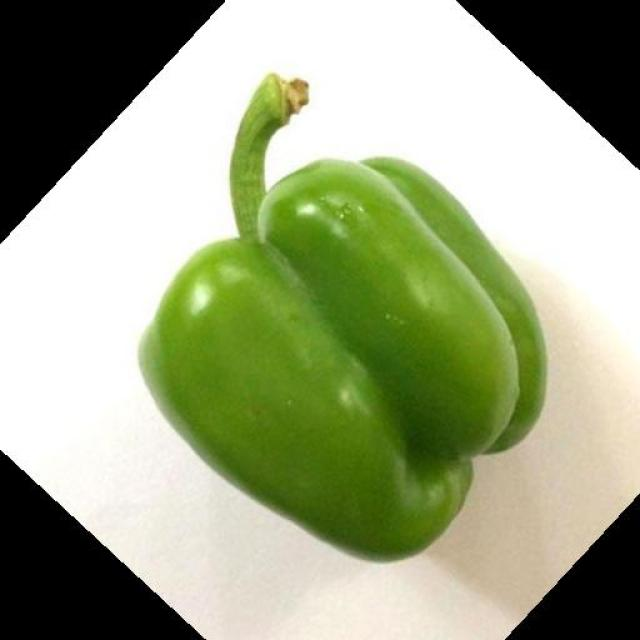Fresh_Capsicum: (170, 91, 537, 526)
